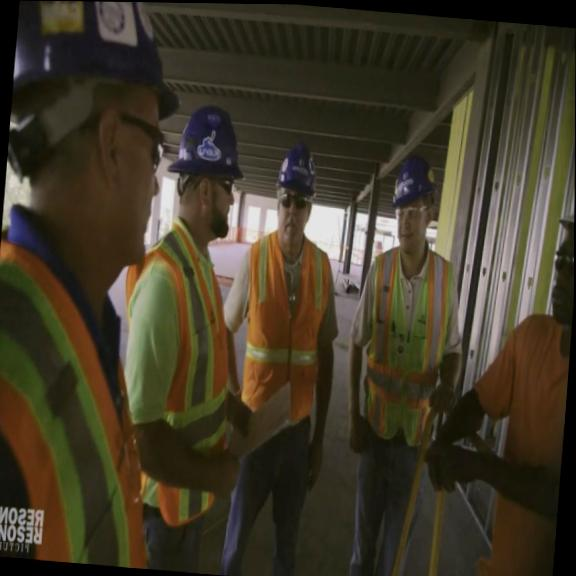safety_vest: (0, 226, 175, 568), (107, 213, 246, 531), (357, 242, 457, 448), (238, 227, 336, 429)
